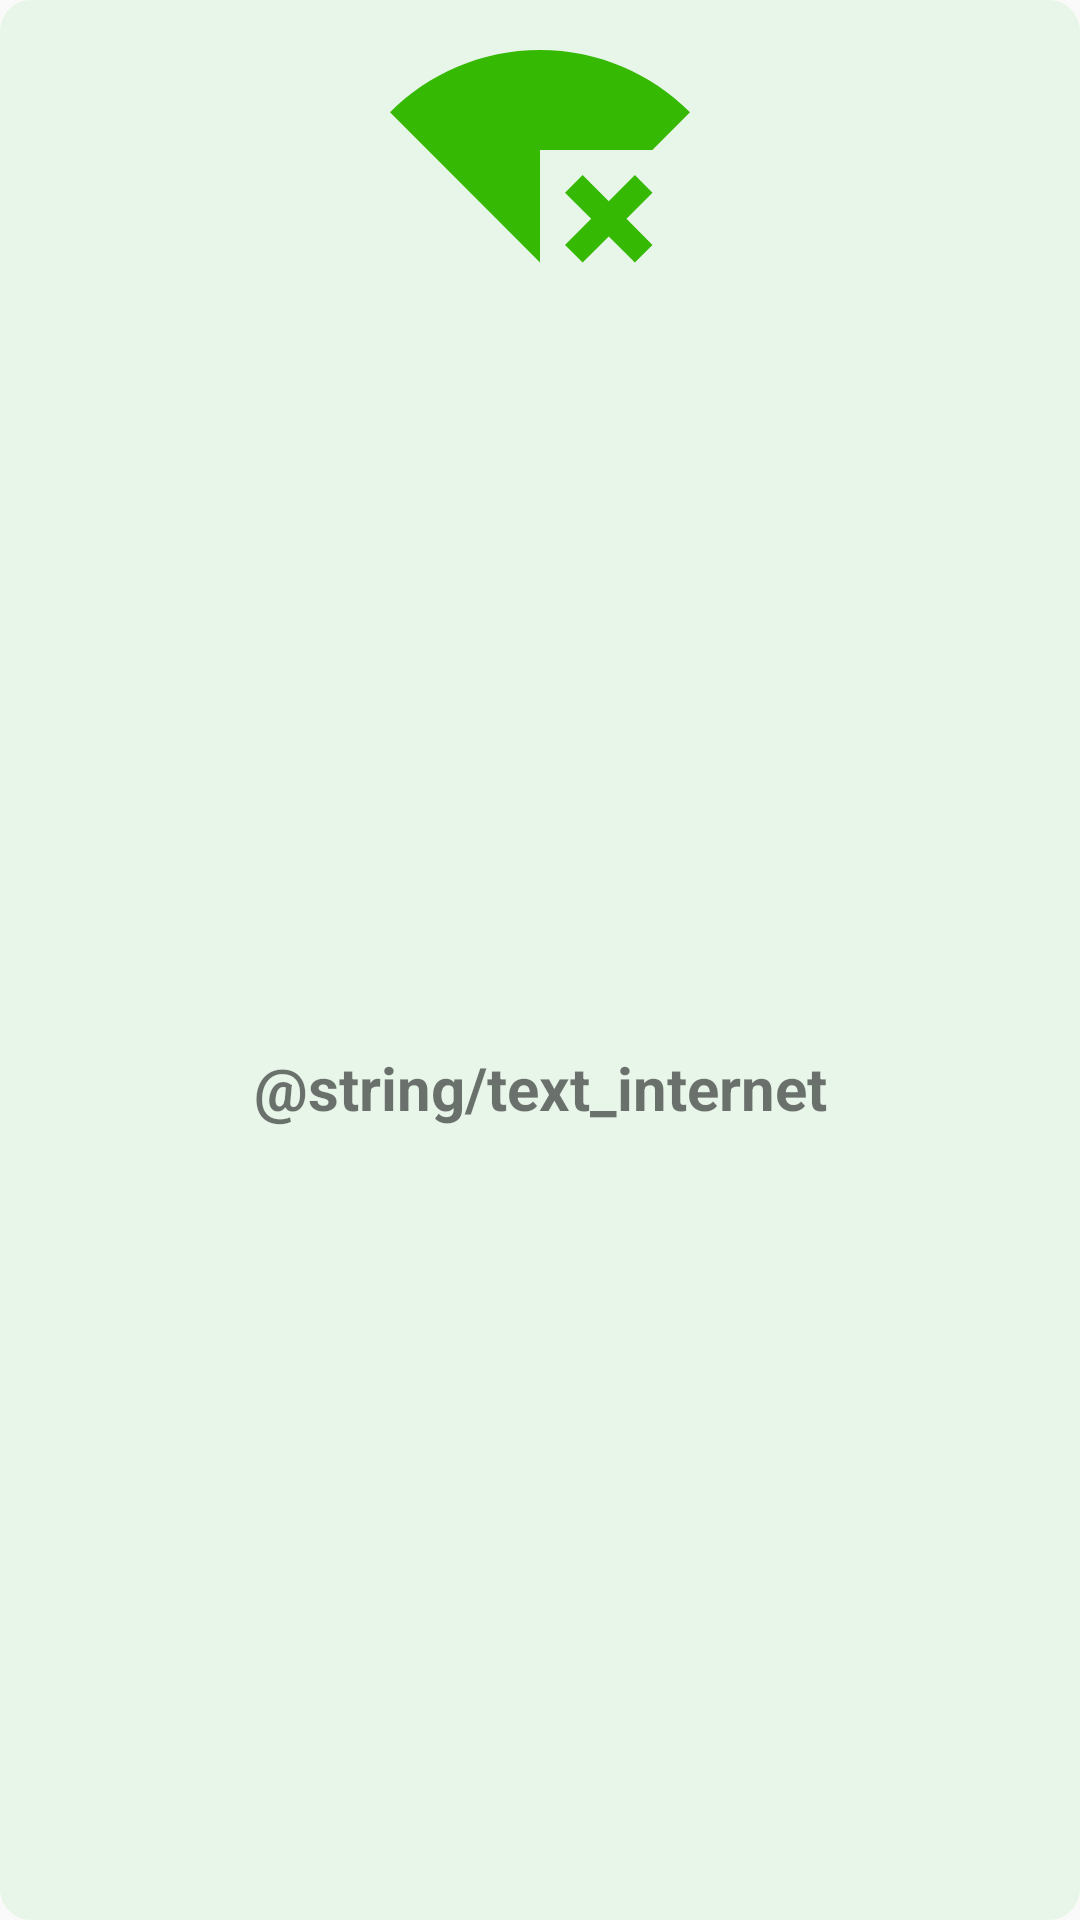

Icons on this 1080 x 1920 Android screen, each with its box as (left=x1, top=y1, right=x2, bottom=y2):
connected no internet: (left=390, top=50, right=690, bottom=263)
